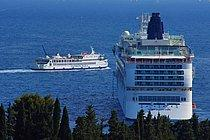Ship: (109, 9, 200, 124)
